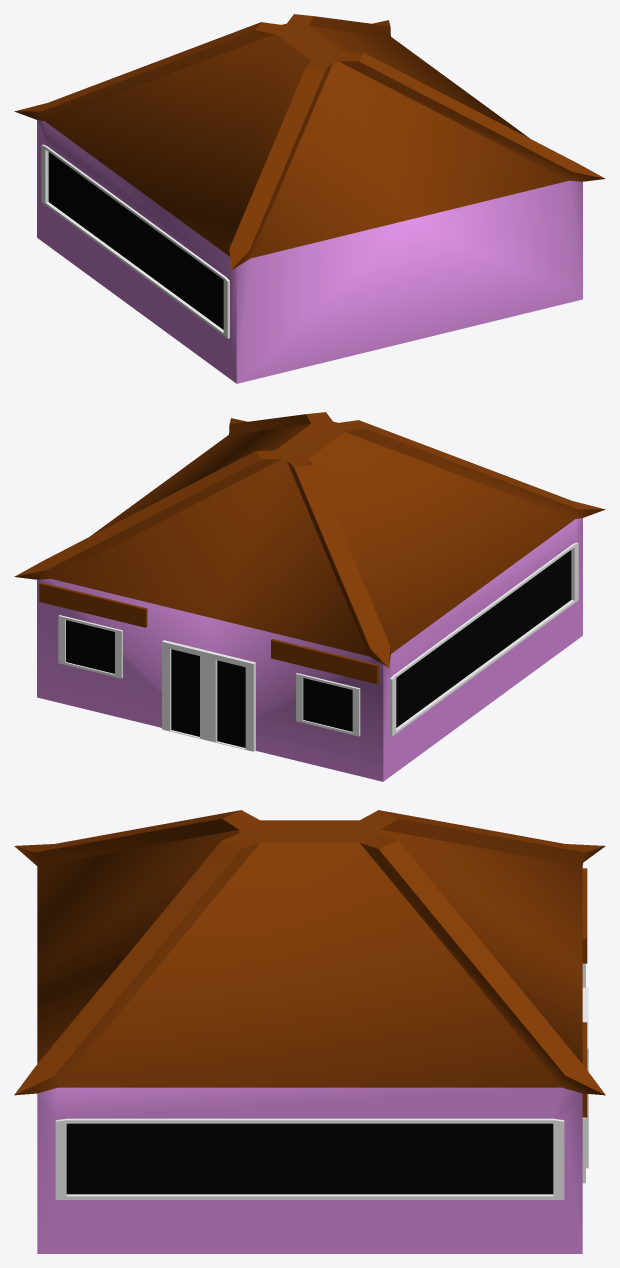
Rendered from housepig.fbx.
3 views of the same model, one above another, from view 1: azimuth 30°, elevation 25°; view 2: azimuth 150°, elevation 25°; view 3: azimuth 270°, elevation 25° (orthographic). The views are drawn at different scales.
Parts seen in each view (by area): view 1: housepig; view 2: housepig; view 3: housepig.
Boxes of the visible parts, x1,y1,x2,y2 form: housepig: (14,14,605,383); housepig: (14,412,605,781); housepig: (14,810,605,1253).
Bounding box in the file's own units: 2178 × 1259 × 2184.
